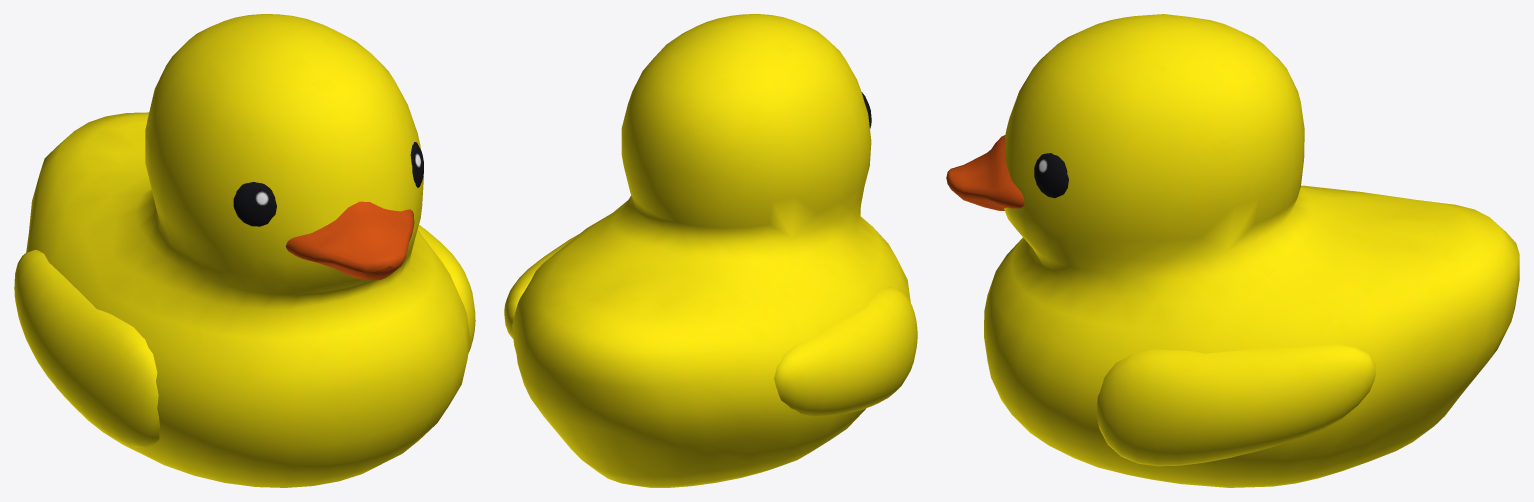
Rendered from rubber_duck.glb.
The picture shows the model from 3 angles, left to right: view 1: azimuth 30°, elevation 25°; view 2: azimuth 150°, elevation 25°; view 3: azimuth 270°, elevation 25°; orthographic projection. The views are drawn at different scales.
Visible parts, largest first — view 1: defaultMaterial; view 2: defaultMaterial; view 3: defaultMaterial.
Boxes of the visible parts, x1,y1,x2,y2 form: defaultMaterial: (14,14,475,487); defaultMaterial: (504,14,917,487); defaultMaterial: (946,14,1519,487).
Bounding box in the file's own units: 272 × 297 × 354.
1 material, 1 textured.
